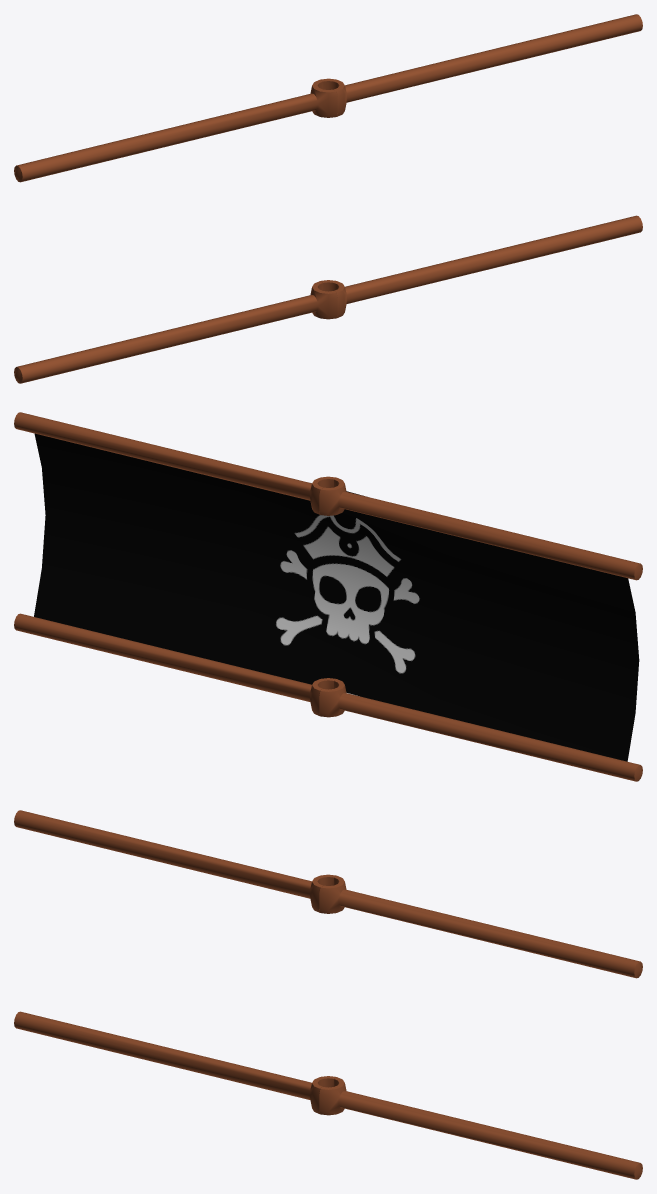
Rendered from buyuk_bayrak.fbx.
3 renders of one model, top to bottom at view 1: azimuth 30°, elevation 25°; view 2: azimuth 150°, elevation 25°; view 3: azimuth 330°, elevation 25°, orthographic.
Visible parts, largest first — view 1: buyuk_bayrak; view 2: buyuk_bayrak; view 3: buyuk_bayrak.
Part boxes in pixels (box(x1,y1,x2,y2)): buyuk_bayrak: box(14, 14, 642, 383); buyuk_bayrak: box(14, 412, 642, 781); buyuk_bayrak: box(14, 810, 642, 1179).
Bounding box in the file's own units: 425 × 147 × 38.83.
Materials: 2 (1 with a texture image).
